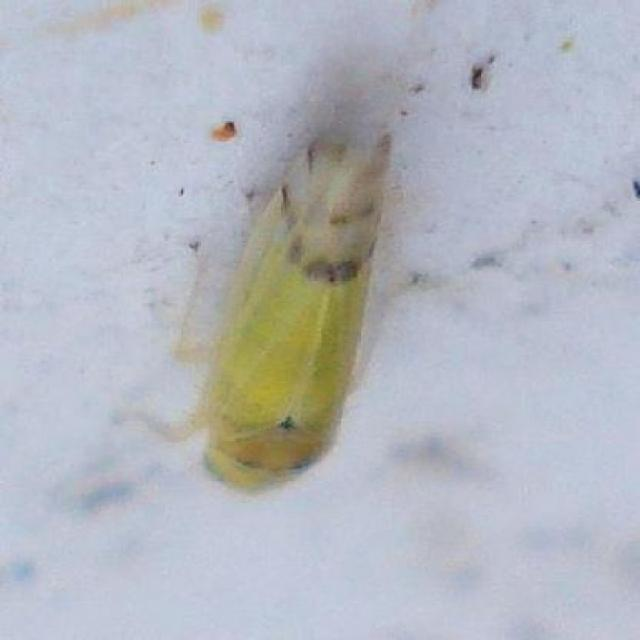green-leafhopper: (152, 121, 400, 497)
